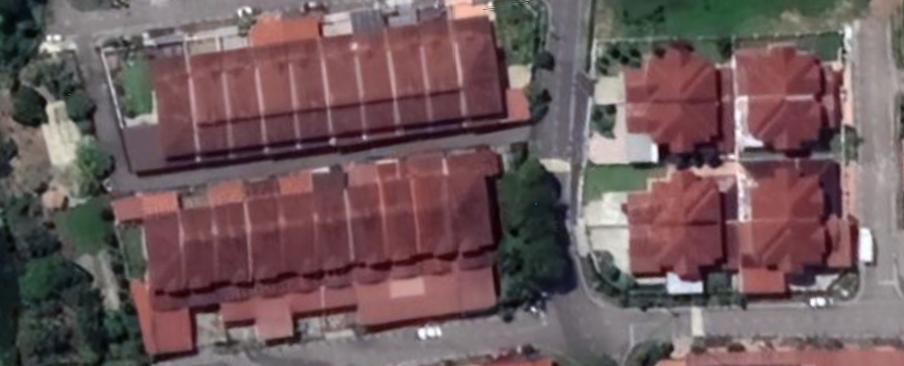building: (445, 143, 503, 260), (147, 49, 205, 163), (621, 167, 727, 228), (457, 9, 514, 121), (388, 17, 439, 141), (422, 13, 473, 136), (291, 32, 341, 155), (624, 227, 730, 285), (626, 95, 726, 156), (749, 213, 837, 282), (257, 35, 307, 155), (323, 31, 373, 151), (731, 36, 829, 95), (227, 39, 275, 159), (742, 92, 833, 155), (191, 43, 239, 159), (360, 25, 406, 146), (620, 45, 722, 95), (316, 175, 362, 285), (141, 206, 191, 297), (349, 176, 394, 275), (285, 183, 327, 287), (746, 163, 830, 215), (384, 171, 427, 272), (417, 165, 459, 264), (252, 187, 290, 291), (217, 192, 255, 293), (185, 199, 225, 291)
